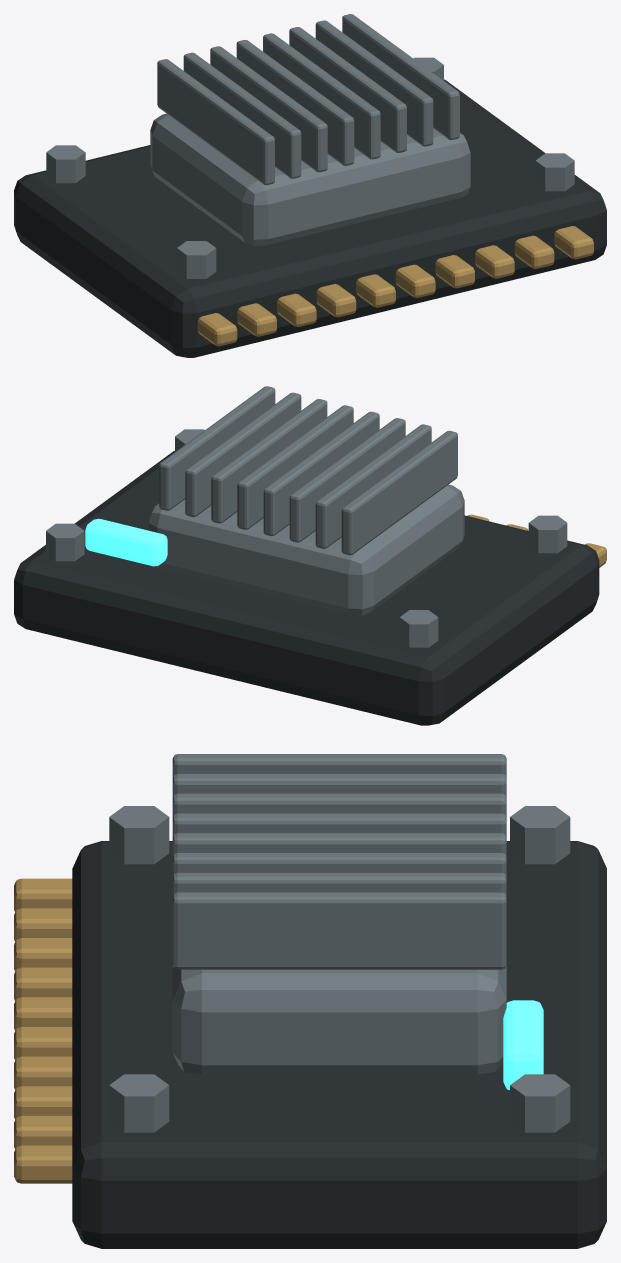
The model's file is internal_cpu.glb.
3 renders of one model, top to bottom at view 1: azimuth 30°, elevation 25°; view 2: azimuth 150°, elevation 25°; view 3: azimuth 270°, elevation 25°, orthographic. The views are drawn at different scales.
Visible parts, largest first — view 1: Cube, Cube.001, Cube.013, Cube.016, Cube.019, Cube.014, Cube.015, Cube.017, Cube.018, Cube.020, Cylinder.001, Cylinder.002 (+11 smaller); view 2: Cube, Cube.001, Cube.013, Cube.016, Cube.017, Cube.018, Cube.014, Cube.020, Cube.015, Cube.019, Cube.012, Cylinder (+2 smaller); view 3: Cube, Cube.001, Cube.020, Cube.015, Cube.019, Cube.013, Cube.016, Cube.017, Cube.018, Cube.014, Cylinder.002, Cylinder.003 (+13 smaller).
Boxes of the visible parts, bbox=[...] form: Cube: bbox=[14, 79, 606, 357]; Cube.001: bbox=[150, 113, 470, 246]; Cube.013: bbox=[157, 59, 274, 185]; Cube.016: bbox=[236, 40, 354, 165]; Cube.019: bbox=[315, 20, 433, 146]; Cube.014: bbox=[183, 52, 301, 178]; Cube.015: bbox=[210, 46, 327, 172]; Cube.017: bbox=[263, 33, 380, 159]; Cube.018: bbox=[289, 27, 406, 152]; Cube.020: bbox=[342, 14, 459, 139]; Cylinder.001: bbox=[46, 145, 85, 183]; Cylinder.002: bbox=[535, 153, 574, 191]; Cube: bbox=[14, 451, 599, 725]; Cube.001: bbox=[148, 484, 464, 615]; Cube.013: bbox=[341, 430, 457, 555]; Cube.016: bbox=[263, 411, 379, 536]; Cube.017: bbox=[237, 405, 353, 529]; Cube.018: bbox=[211, 399, 327, 523]; Cube.014: bbox=[315, 424, 431, 548]; Cube.020: bbox=[159, 386, 275, 510]; Cube.015: bbox=[289, 418, 405, 542]; Cube.019: bbox=[185, 392, 301, 516]; Cube.012: bbox=[85, 518, 167, 566]; Cylinder: bbox=[528, 515, 567, 553]; Cube: bbox=[72, 841, 606, 1248]; Cube.001: bbox=[172, 965, 506, 1074]; Cube.020: bbox=[172, 892, 506, 969]; Cube.015: bbox=[172, 793, 506, 817]; Cube.019: bbox=[172, 872, 506, 896]; Cube.013: bbox=[172, 754, 506, 777]; Cube.016: bbox=[172, 813, 506, 837]; Cube.017: bbox=[172, 833, 506, 856]; Cube.018: bbox=[172, 853, 506, 876]; Cube.014: bbox=[172, 774, 506, 797]; Cylinder.002: bbox=[109, 1074, 169, 1132]; Cylinder.003: bbox=[510, 1074, 570, 1132].
Bounding box in the file's own units: 0.23 × 0.0895 × 0.1775.
